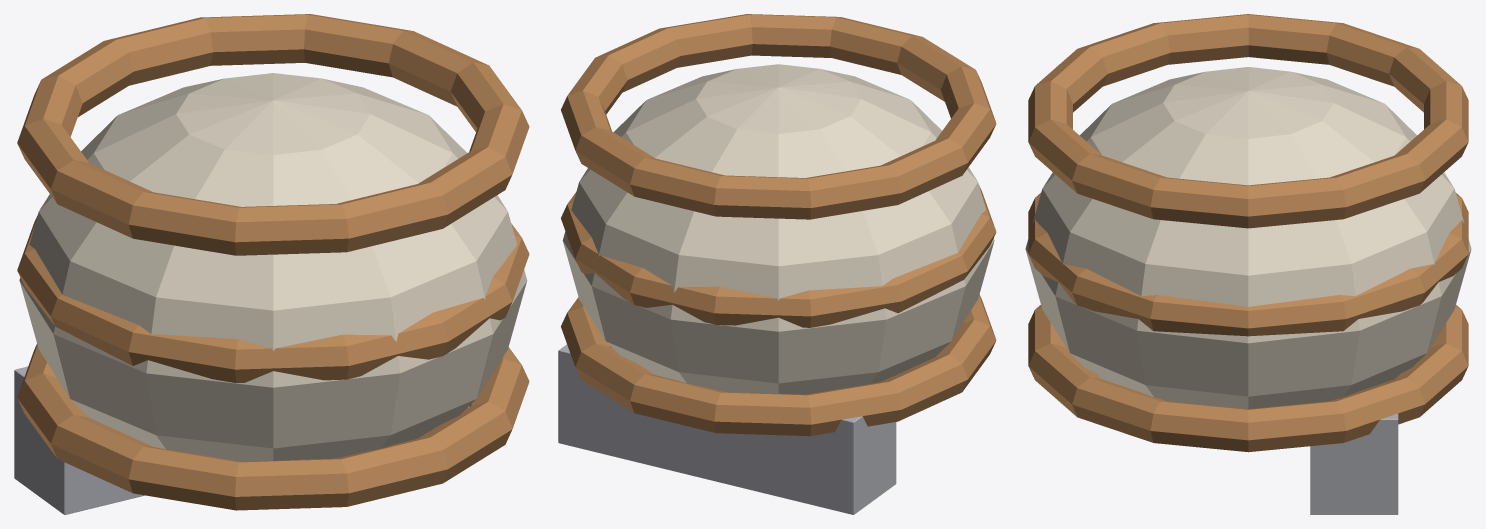
Rendered from cowl-shroud.glb.
The picture shows the model from 3 angles, left to right: view 1: azimuth 30°, elevation 25°; view 2: azimuth 150°, elevation 25°; view 3: azimuth 270°, elevation 25°; orthographic projection. The views are drawn at different scales.
Visible parts, largest first — view 1: cap, rib2, rib0, rib1, lip; view 2: cap, rib2, lip, rib0, rib1; view 3: cap, rib2, rib0, rib1, lip.
Boxes of the visible parts, x1,y1,x2,y2 form: cap: (19, 73, 527, 461); rib2: (17, 14, 529, 255); rib0: (17, 344, 529, 510); rib1: (17, 207, 529, 382); lip: (14, 366, 144, 514); cap: (562, 64, 994, 394); rib2: (561, 14, 996, 219); lip: (558, 344, 896, 514); rib0: (561, 294, 996, 436); rib1: (561, 185, 996, 327); cap: (1025, 67, 1471, 408); rib2: (1028, 14, 1468, 228); rib0: (1028, 305, 1468, 452); rib1: (1028, 192, 1468, 336); lip: (1310, 413, 1398, 514).
Bounding box in the file's own units: 0.256 × 0.219 × 0.253.
